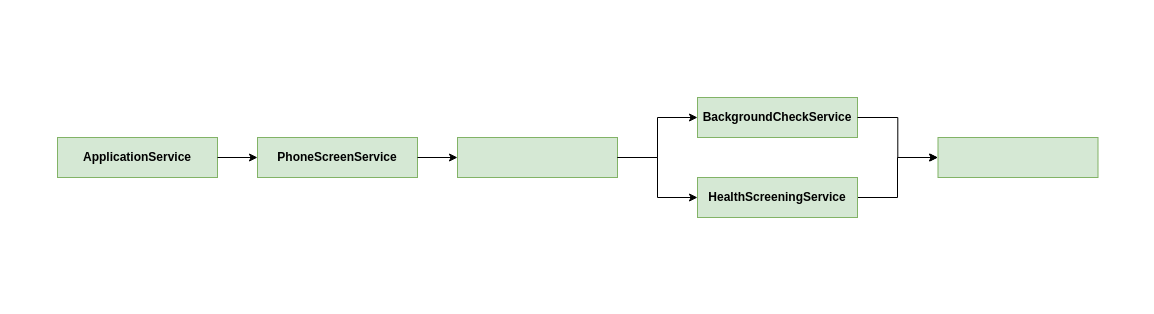
Image size: 1154x314. Some labels were removed from this diagram. The box of each missing label's shape, as (x1, y1, x2, y2) in pixels:
OfferService: (937, 136, 1098, 178)
OnSiteInterviewService: (456, 136, 618, 178)
